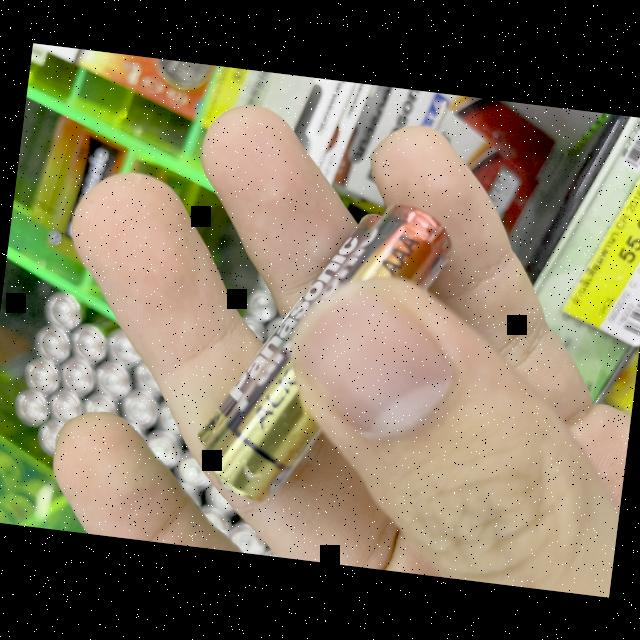battery: (193, 201, 456, 503), (196, 208, 386, 446)
